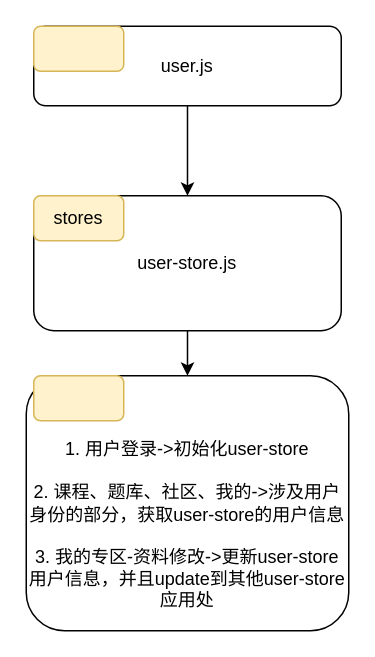
The diagram is 375 pixels wide and 657 high, and some of its shapes have lost their labels. The shapes that lost their labels are listed below. From the top down, each one's centre as x and y in pixels, then its label:
the point at 78,48: models
the point at 78,397: pages
